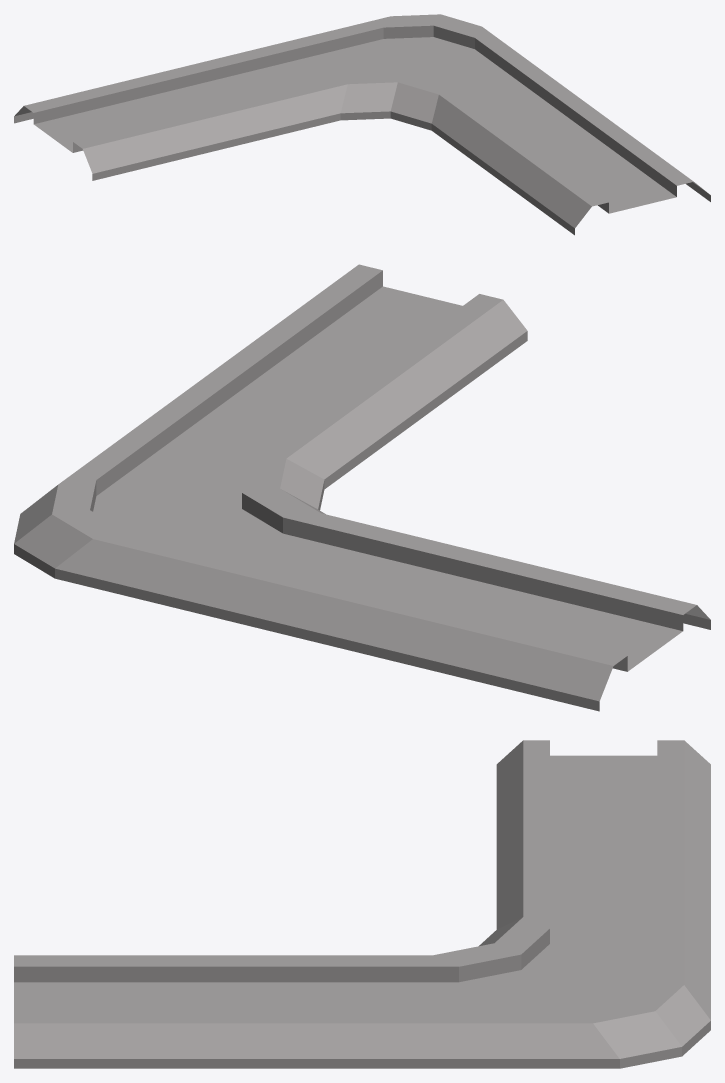
The model's file is FloorRailCorner.fbx.
3 renders of one model, top to bottom at view 1: azimuth 30°, elevation 25°; view 2: azimuth 150°, elevation 25°; view 3: azimuth 270°, elevation 25°, orthographic. The views are drawn at different scales.
Visible parts, largest first — view 1: FloorRailCorner; view 2: FloorRailCorner; view 3: FloorRailCorner.
Part boxes in pixels (x1,y1,x2,y2): FloorRailCorner: [14, 14, 710, 235]; FloorRailCorner: [14, 264, 710, 711]; FloorRailCorner: [14, 740, 710, 1068].
Size of the model in its own units: 130 by 7.01 by 130.
